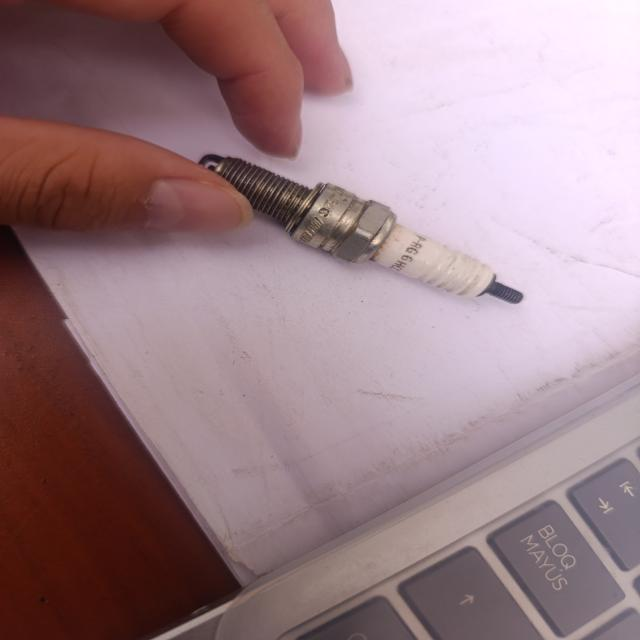bujia: (199, 154, 523, 304)
